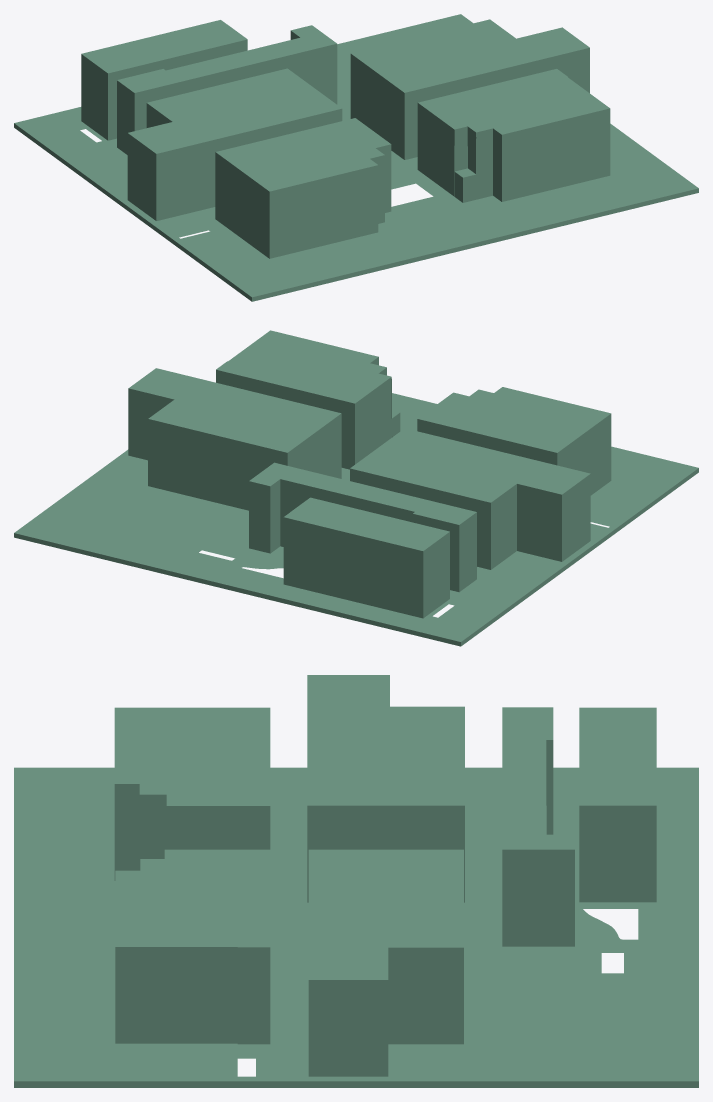
Rendered from OCH 3F (1).glb.
3 views of the same model, one above another, from view 1: azimuth 30°, elevation 25°; view 2: azimuth 150°, elevation 25°; view 3: azimuth 270°, elevation 25° (orthographic). The views are drawn at different scales.
Visible parts, largest first — view 1: 3F; view 2: 3F; view 3: 3F.
Boxes of the visible parts, box(x1,y1,x2,y2) form: 3F: box(14, 14, 698, 301); 3F: box(14, 330, 698, 646); 3F: box(14, 675, 698, 1087).
Size of what is drawn, in the model's own units: 30.12 by 4.62 by 27.78.
